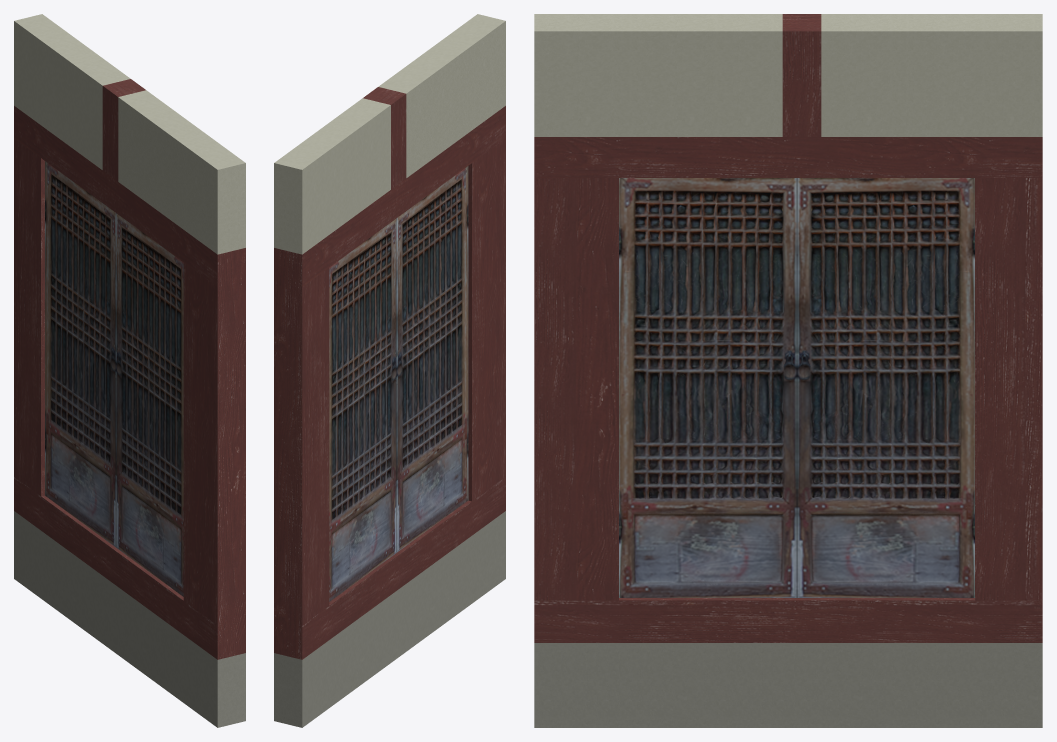
The model's file is SM_Sun_Won_Wall_C.fbx.
The picture shows the model from 3 angles, left to right: view 1: azimuth 30°, elevation 25°; view 2: azimuth 150°, elevation 25°; view 3: azimuth 270°, elevation 25°; orthographic projection. The views are drawn at different scales.
Parts seen in each view (by area): view 1: SM_Sun_Won_Wall_C; view 2: SM_Sun_Won_Wall_C; view 3: SM_Sun_Won_Wall_C.
Part boxes in pixels (x1=…): SM_Sun_Won_Wall_C: x1=14, y1=14, x2=245, y2=727; SM_Sun_Won_Wall_C: x1=274, y1=14, x2=505, y2=727; SM_Sun_Won_Wall_C: x1=534, y1=14, x2=1042, y2=727.
Bounding box in the file's own units: 15 × 283 × 187.
